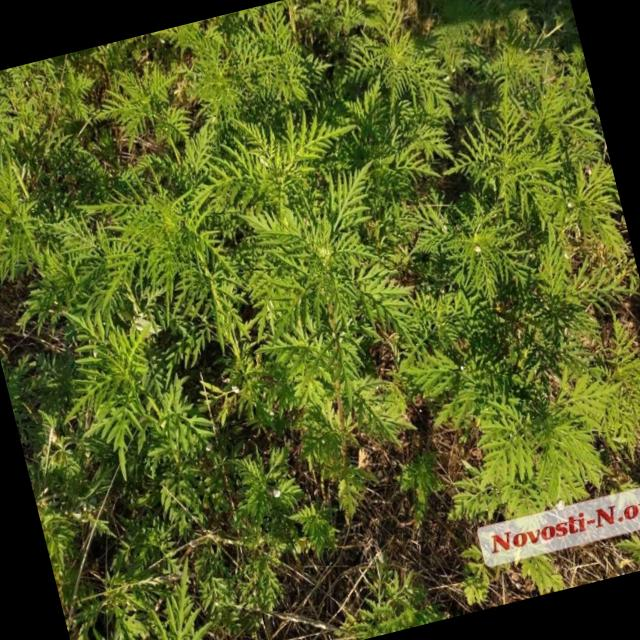ambrosia: (435, 14, 640, 327), (235, 146, 425, 400), (30, 267, 218, 488), (105, 0, 321, 161), (0, 132, 107, 309)
